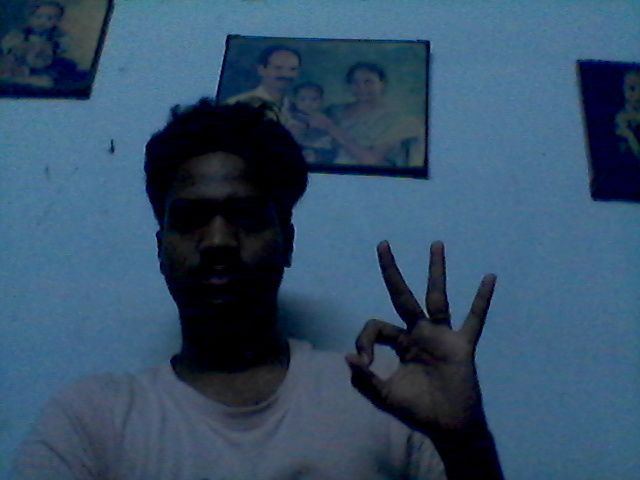Not Ok: (344, 237, 529, 434)
